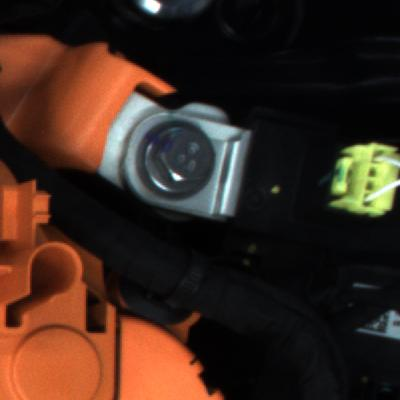nut_b: (140, 111, 225, 209)
